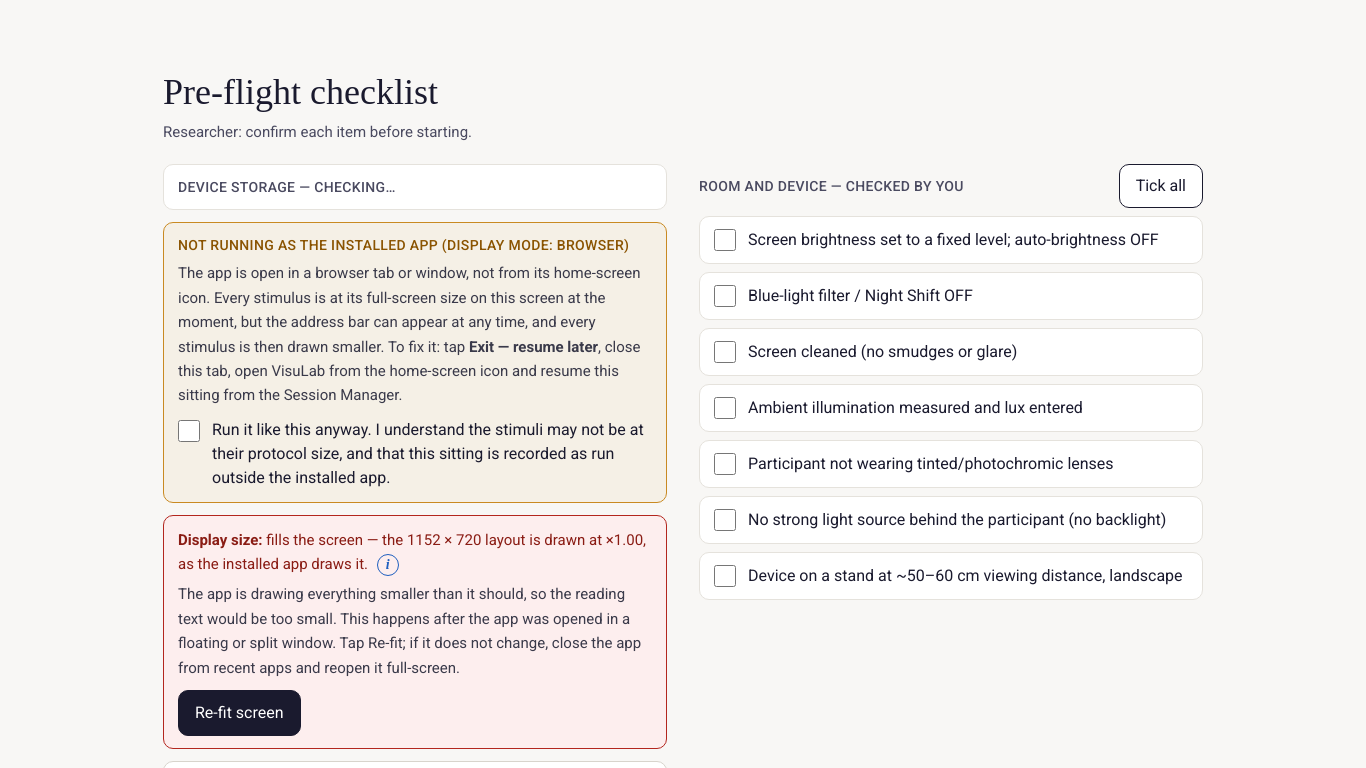
Test case: pre-flight: Tick all › ticks every item of the list once confirmed, and only those
Expected: the label "Screen brightness set to a fixed level; auto-brightness OFF" is shown, [699,216,1203,264]
Expected: the label "Blue-light filter / Night Shift OFF" is shown, [699,272,1203,320]
What coordinates should you click on to do the following:
click the button with test id "preflight-tick-all"
I would click on:
 (1161, 186)
Its box is [1119,164,1203,208].
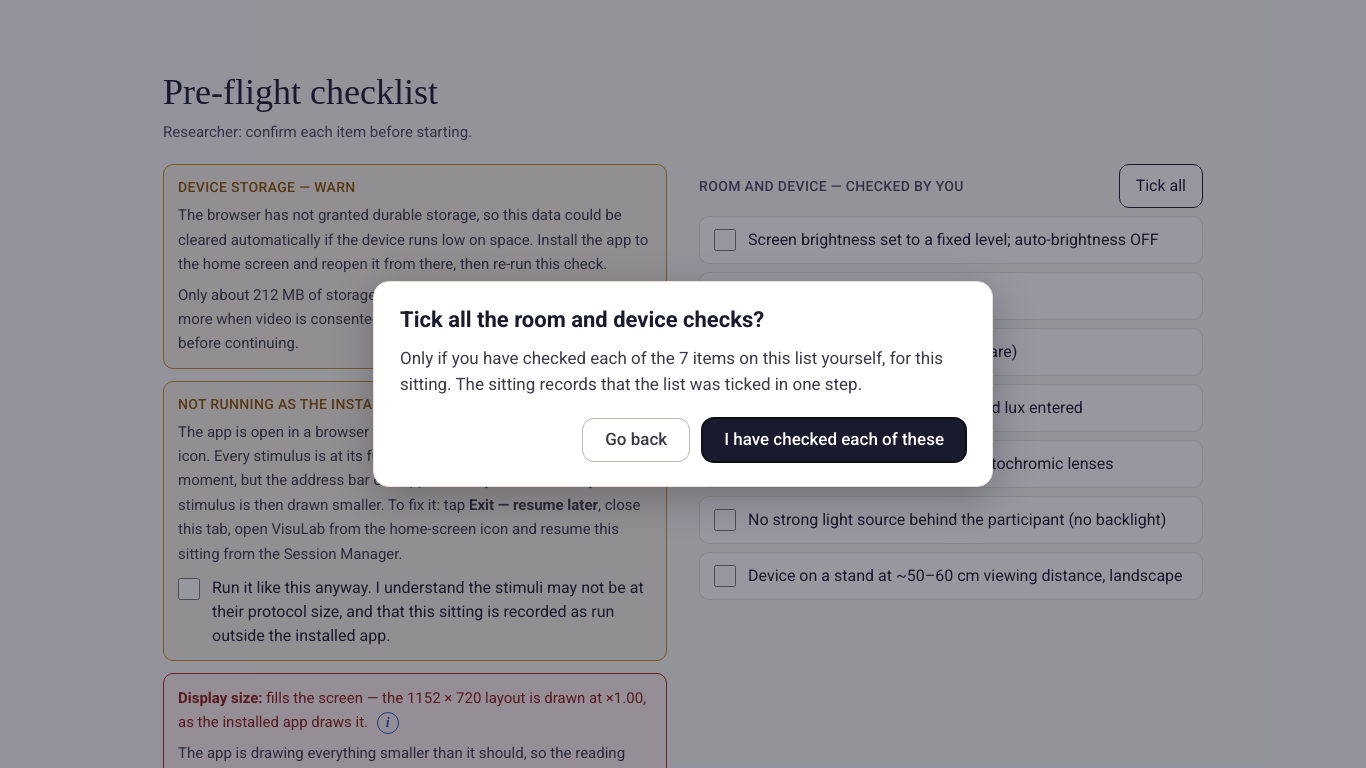
Expected: the button with test id "confirm-ok" is shown
What coordinates should you click on to do the following:
click the button with test id "confirm-ok"
I would click on:
 (834, 440)
Its box is [702,418,966,462].
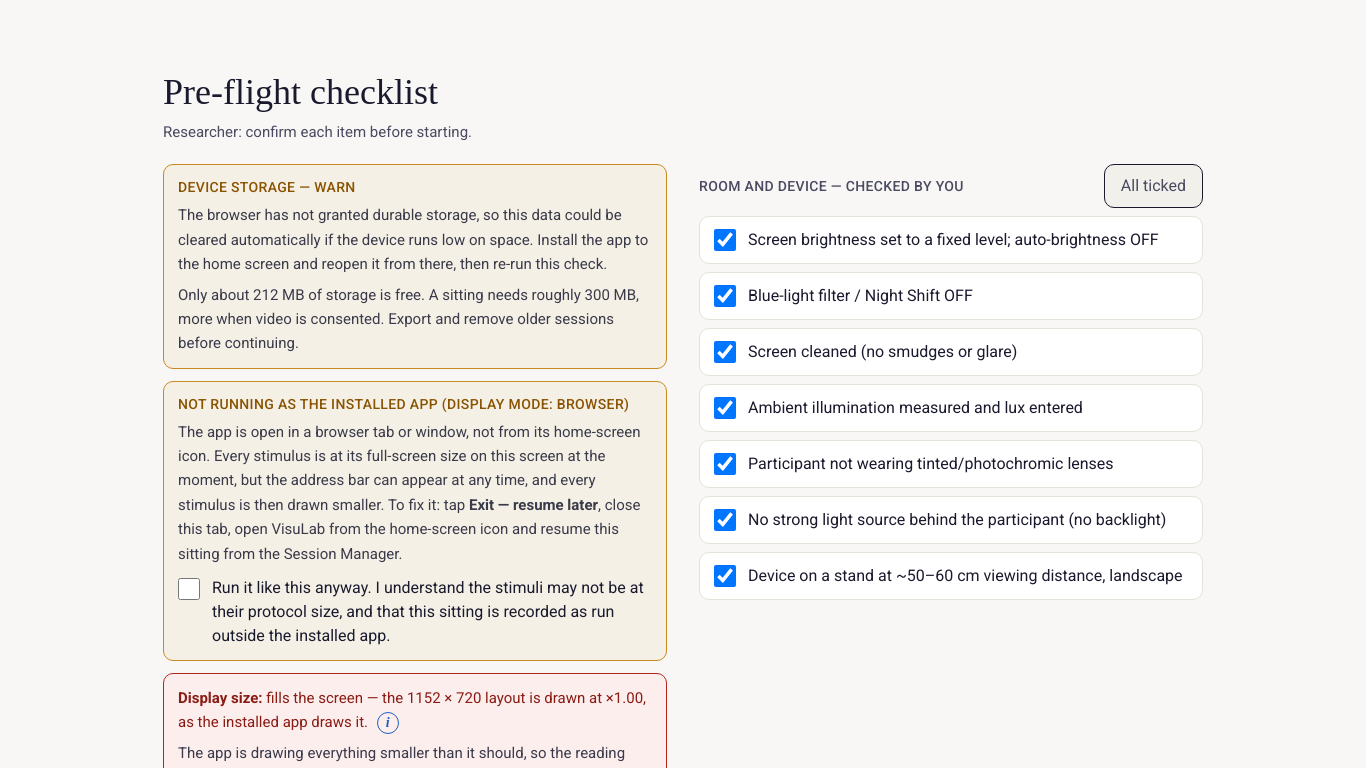
Expected: the label "Screen brightness set to a fixed level; auto-brightness OFF" is shown, [699,216,1203,264]
Expected: the button with test id "preflight-tick-all" is disabled, [1104,164,1203,208]
Expected: the button with test id "preflight-tick-all" reads "All ticked", [1104,164,1203,208]
